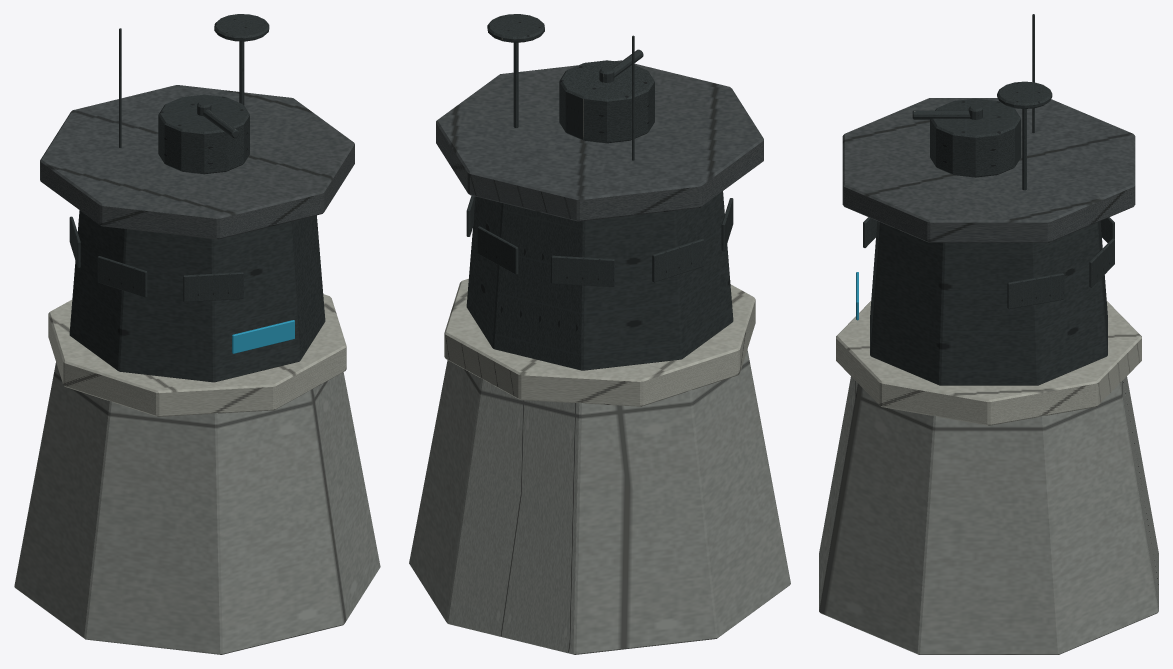
The model's file is edificio-tower-e5-lod0-Ds4Ulx9d.glb.
3 views of the same model, side by side, from view 1: azimuth 30°, elevation 25°; view 2: azimuth 150°, elevation 25°; view 3: azimuth 270°, elevation 25° (orthographic). The views are drawn at different scales.
Parts seen in each view (by area): view 1: envolvente_torre, mecanismo_ataque_torre_e5, team_color; view 2: envolvente_torre, mecanismo_ataque_torre_e5; view 3: envolvente_torre, mecanismo_ataque_torre_e5.
Part boxes in pixels (x1,y1,x2,y2): envolvente_torre: (14,85,380,654); mecanismo_ataque_torre_e5: (119,14,269,174); team_color: (232,320,294,353); envolvente_torre: (409,60,790,654); mecanismo_ataque_torre_e5: (487,14,654,160); envolvente_torre: (819,98,1158,654); mecanismo_ataque_torre_e5: (912,14,1052,190).
Bounding box in the file's own units: 38.01 × 67 × 38.01.
Materials: 2 (1 with a texture image).
